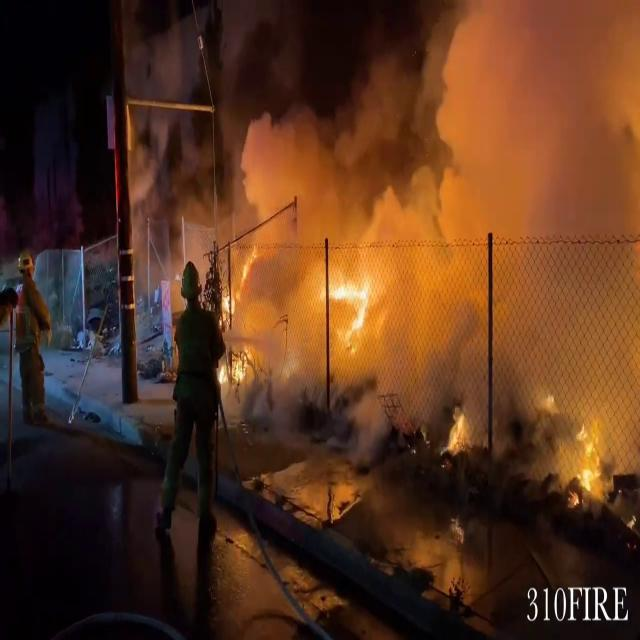Fire: (326, 262, 376, 347), (564, 419, 610, 506)
Smoke: (132, 0, 640, 406)
